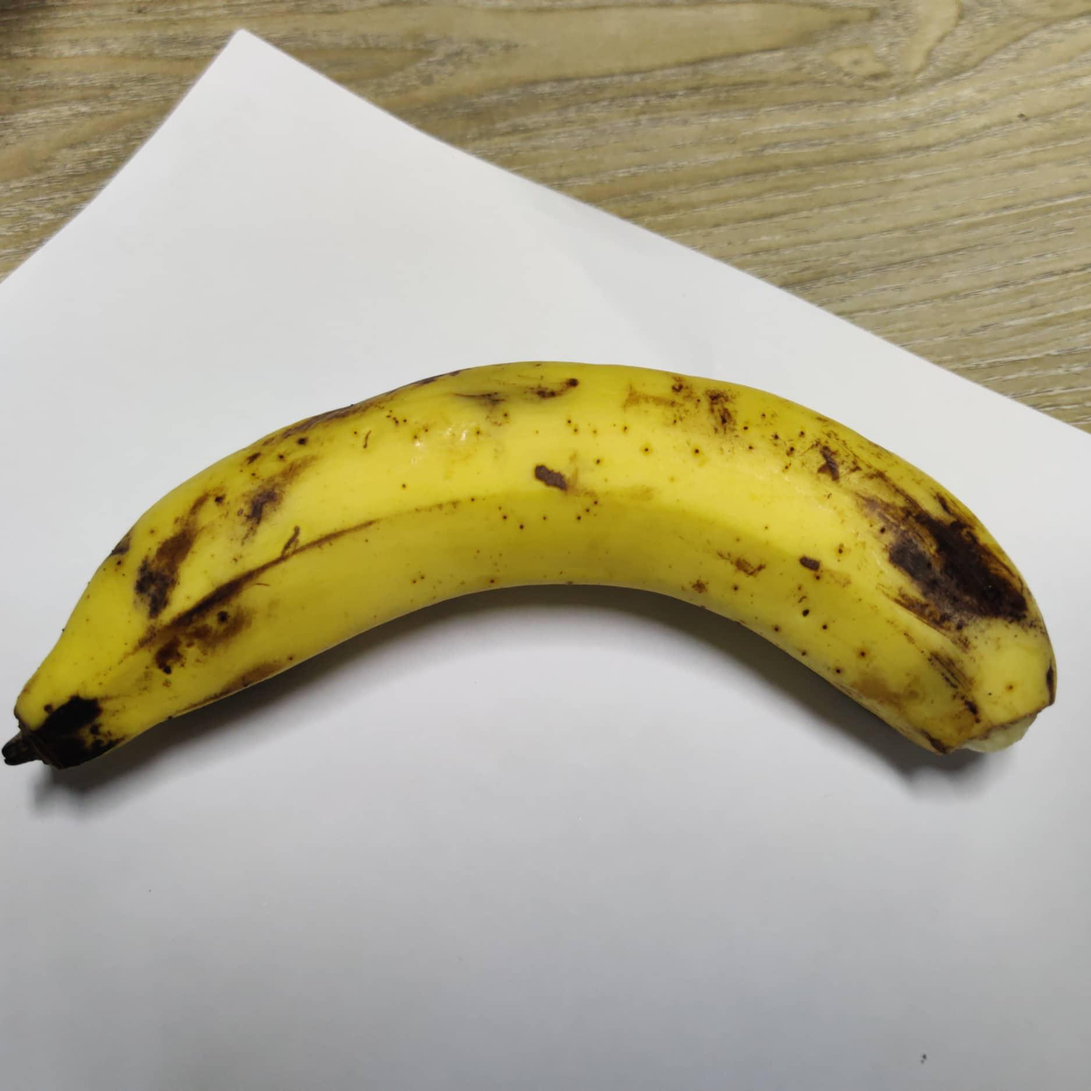Banana Ripe: (0, 326, 1091, 853)
